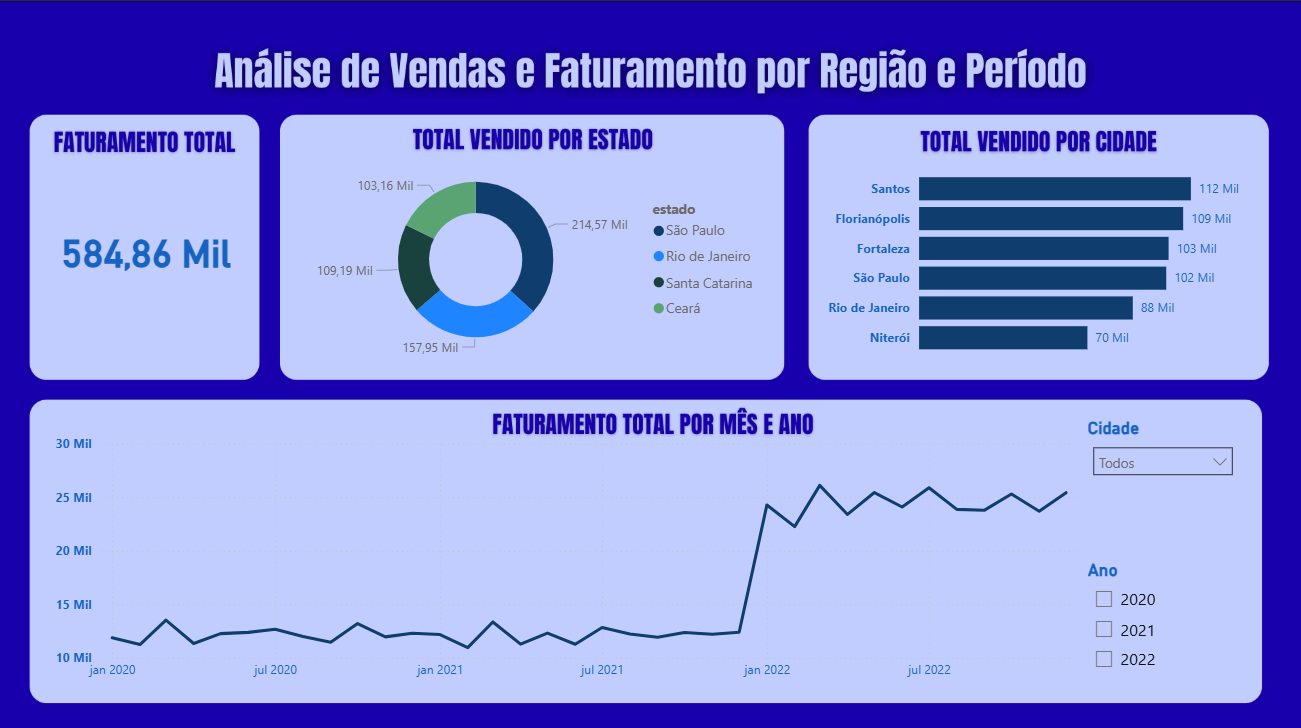

What the dashboard file says about the page in this screenshot:
{"tool":"powerbi","page":{"name":"Página 1","canvas":[1280,720],"ordinal":0},"visuals":[{"type":"donutChart","title":"Total vendido por estado","fields":{"Category":["Base de Dados.estado"],"Y":["Sum(Base de Dados.preco)"]},"box":[289.6,148.5,465,211],"z":0},{"type":"clusteredBarChart","fields":{"Category":["Base de Dados.cidade"],"Y":["Sum(Base de Dados.preco)"]},"box":[807.4,148.5,423.3,211],"z":1000},{"type":"card","fields":{"Values":["Faturamento Total.Faturamento Total"]},"box":[50.3,182.8,187.7,123.9],"z":2000},{"type":"slicer","title":"Ano","fields":{"Values":["Base de Dados.ano_mes.Variation.Hierarquia de datas.Ano"]},"box":[1063.8,548.5,157.1,116.6],"z":3000},{"type":"lineChart","fields":{"Category":["Base de Dados.ano_mes.Variation.Hierarquia de datas.Ano","Base de Dados.ano_mes.Variation.Hierarquia de datas.Mês"],"Y":["Faturamento Total.Faturamento Total"]},"box":[50.3,420.9,1023.3,254],"z":4000},{"type":"slicer","title":"Cidade","fields":{"Values":["Base de Dados.cidade"]},"box":[1063.8,408.6,157.1,149.7],"z":5000}]}

Visuals, with their boxes in screenshot pixels (x1, y1, x2, y2), scaled from the page's 1280x720 canvas onto the 1301x728 screenshot:
"Total vendido por estado" donutChart: [294, 150, 767, 363]
clusteredBarChart - Base de Dados.cidade x Sum(Base de Dados.preco): [821, 150, 1251, 363]
card - Faturamento Total.Faturamento Total: [51, 185, 242, 310]
"Ano" slicer: [1081, 555, 1241, 672]
lineChart - Base de Dados.ano_mes.Variation.Hierarquia de datas.Ano x Base de Dados.ano_mes.Variation.Hierarquia de datas.Mês: [51, 426, 1091, 682]
"Cidade" slicer: [1081, 413, 1241, 565]
